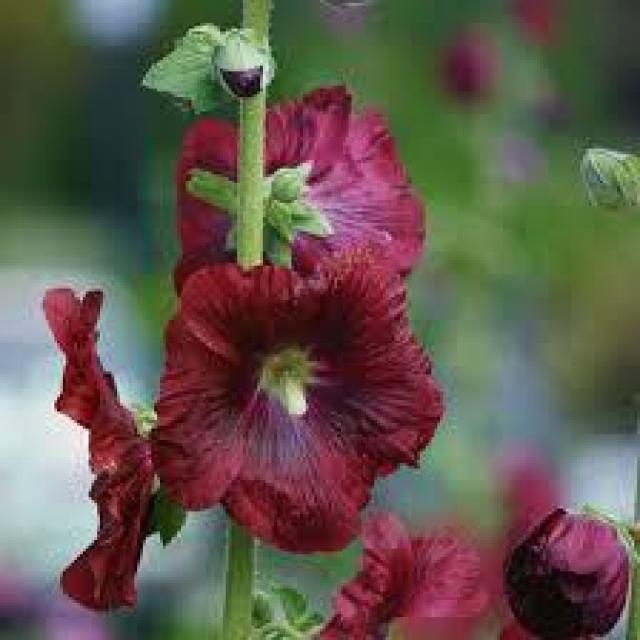organic waste: (156, 248, 441, 552)
